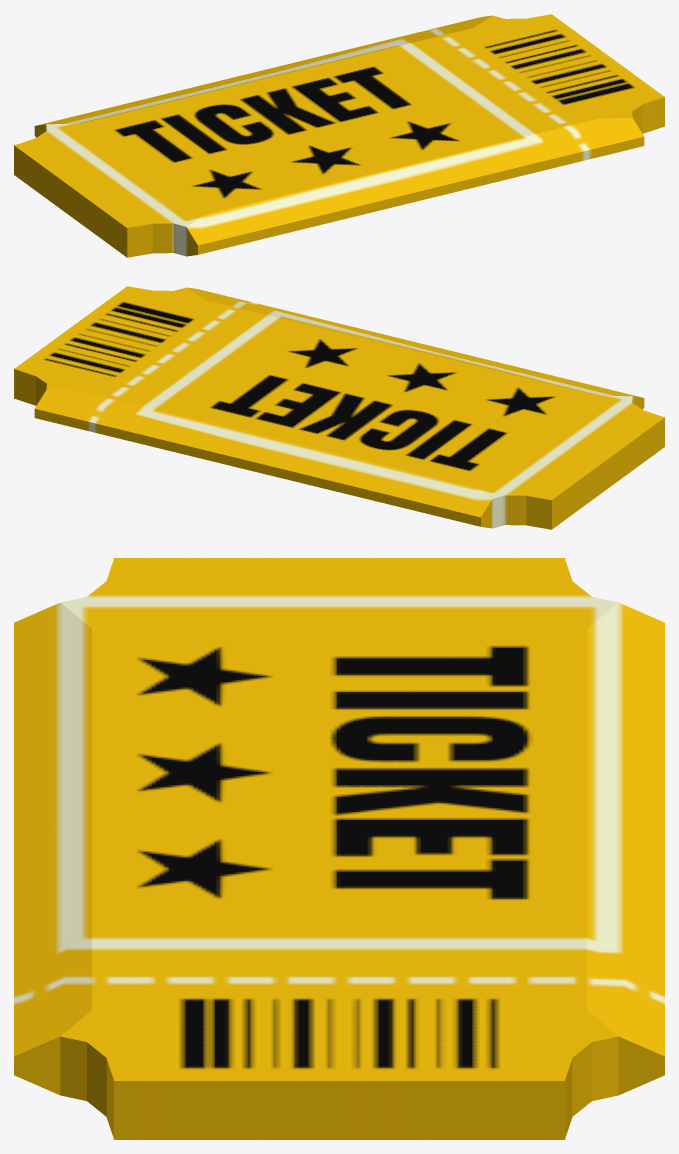
File: Ticket.fbx
3 renders of one model, top to bottom at view 1: azimuth 30°, elevation 25°; view 2: azimuth 150°, elevation 25°; view 3: azimuth 270°, elevation 25°, orthographic. The views are drawn at different scales.
Parts seen in each view (by area): view 1: Cube; view 2: Cube; view 3: Cube.
Boxes of the visible parts, bbox=[...] form: Cube: bbox=[14, 14, 664, 257]; Cube: bbox=[14, 286, 664, 529]; Cube: bbox=[14, 558, 664, 1139].
Size of the model in its own units: 380 by 20 by 200.
